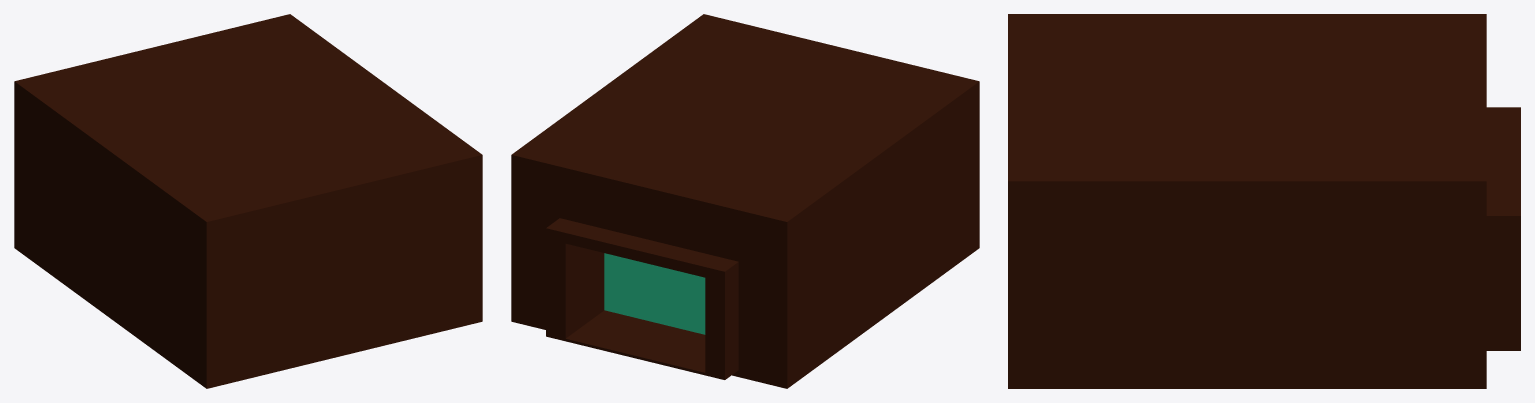
The model's file is Edificio_singlemini.fbx.
The picture shows the model from 3 angles, left to right: view 1: azimuth 30°, elevation 25°; view 2: azimuth 150°, elevation 25°; view 3: azimuth 270°, elevation 25°; orthographic projection. The views are drawn at different scales.
Visible parts, largest first — view 1: Cube.003; view 2: Cube.003; view 3: Cube.003.
Boxes of the visible parts, x1,y1,x2,y2 form: Cube.003: (14, 14, 482, 388); Cube.003: (511, 14, 979, 388); Cube.003: (1008, 14, 1520, 388).
Bounding box in the file's own units: 346 × 200 × 448.
